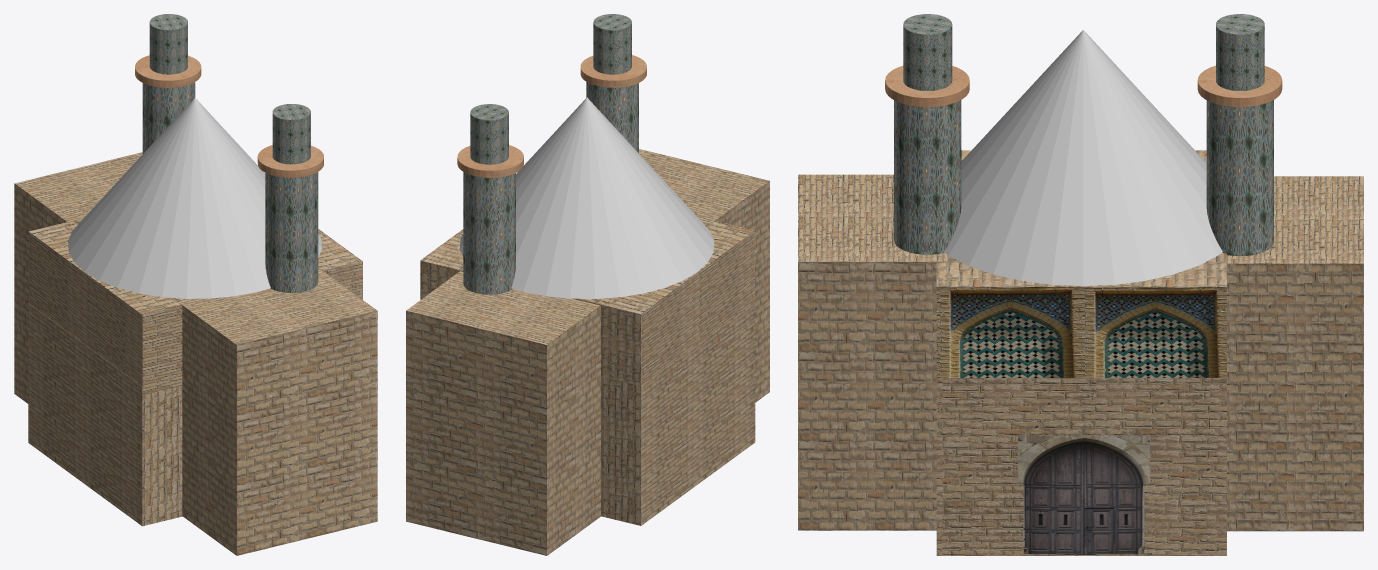
File: Persian_CivilHouse.fbx
3 renders of one model, left to right at view 1: azimuth 30°, elevation 25°; view 2: azimuth 150°, elevation 25°; view 3: azimuth 270°, elevation 25°, orthographic. The views are drawn at different scales.
Parts seen in each view (by area): view 1: Cube.001, Cone, Cube.007, Cube.002, Cube.000, Cylinder, Cylinder.003, Cylinder.002, Cylinder.005, Cylinder.004, Cylinder.001; view 2: Cube.000, Cone, Cube.007, Cube.002, Cube.001, Cylinder.005, Cylinder.003, Cylinder.002, Cylinder, Cylinder.004, Cylinder.001; view 3: Cube.007, Cube.001, Cone, Cube.000, Cube.002, Cylinder.005, Cylinder, Cylinder.002, Cylinder.003, Cylinder.004, Cylinder.001.
Boxes of the visible parts, <box> form: Cube.001: <box>178,267,377,555</box>; Cone: <box>68,98,321,298</box>; Cube.007: <box>28,303,182,526</box>; Cube.002: <box>28,218,362,394</box>; Cube.000: <box>14,152,142,403</box>; Cylinder: <box>265,172,318,292</box>; Cylinder.003: <box>149,14,187,74</box>; Cylinder.002: <box>272,104,310,164</box>; Cylinder.005: <box>142,82,195,153</box>; Cylinder.004: <box>135,55,201,87</box>; Cylinder.001: <box>257,145,323,177</box>; Cube.000: <box>406,271,600,555</box>; Cone: <box>459,97,714,298</box>; Cube.007: <box>601,302,755,525</box>; Cube.002: <box>420,221,754,385</box>; Cube.001: <box>639,149,769,402</box>; Cylinder.005: <box>463,172,515,294</box>; Cylinder.003: <box>470,104,508,164</box>; Cylinder.002: <box>593,14,631,74</box>; Cylinder: <box>586,82,638,152</box>; Cylinder.004: <box>457,145,523,177</box>; Cylinder.001: <box>580,55,646,87</box>; Cube.007: <box>936,378,1226,555</box>; Cube.001: <box>798,174,947,530</box>; Cone: <box>944,30,1222,285</box>; Cube.000: <box>1227,176,1363,531</box>; Cube.002: <box>936,150,1226,377</box>; Cylinder.005: <box>1206,100,1273,256</box>; Cylinder: <box>894,100,961,254</box>; Cylinder.002: <box>903,14,952,90</box>; Cylinder.003: <box>1216,14,1264,90</box>; Cylinder.004: <box>1197,65,1282,106</box>; Cylinder.001: <box>885,65,969,106</box>.
Bounding box in the file's own units: 435 × 718 × 758.
6 materials, 5 textured.
